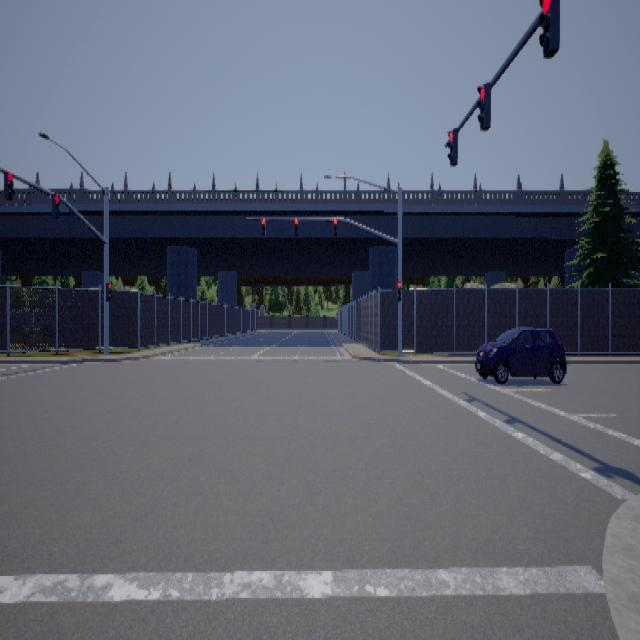red_light: (538, 0, 559, 57), (476, 81, 490, 130), (446, 126, 457, 165), (3, 170, 13, 199), (51, 192, 59, 217), (105, 281, 111, 300), (396, 280, 401, 300), (293, 217, 297, 236), (261, 217, 265, 236), (333, 217, 336, 236)
vehicle: (474, 325, 566, 382)
